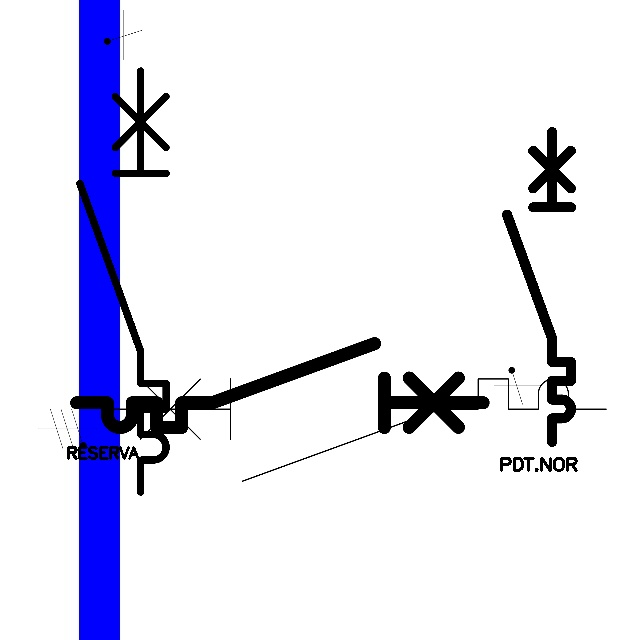interruptor_termomagnetico: (97, 366, 619, 494), (69, 60, 177, 503), (66, 333, 494, 438), (499, 124, 579, 450)
